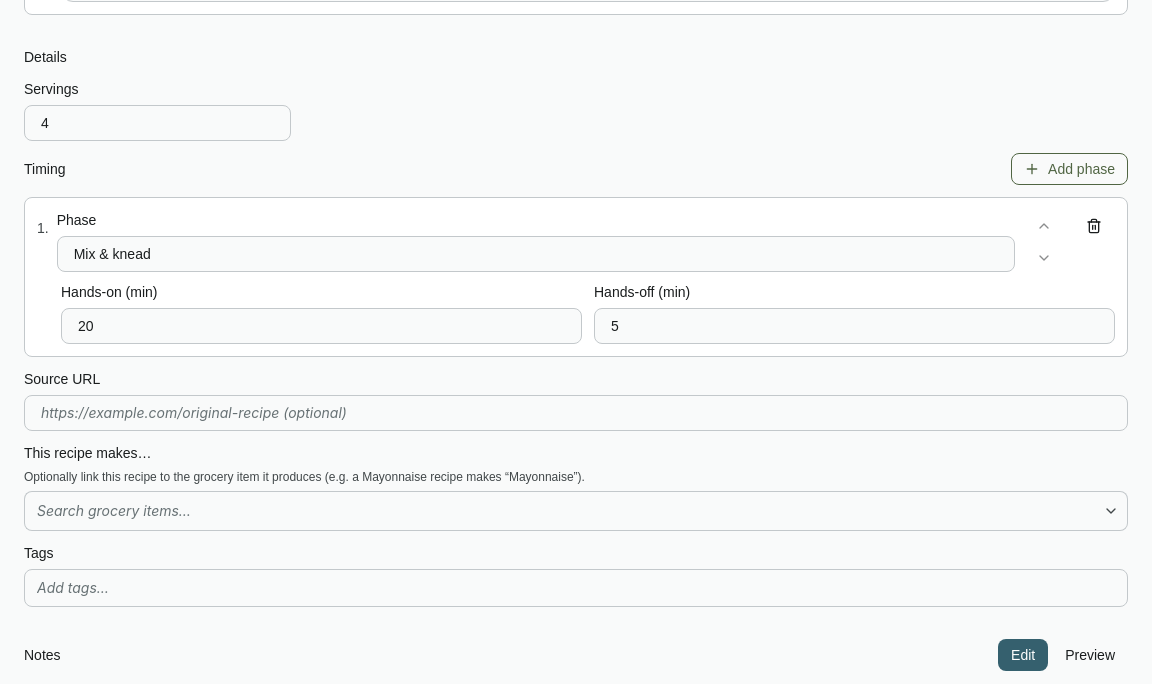
Scenario: RecipeEditPage — the phase hands-off box › snaps back to the stored figure on blur
The image size is (1152, 684).
(page scrolled)
Clear the field with test id "recipe-phase-hands-off-input" at (854, 326), box [611,316,1098,336]
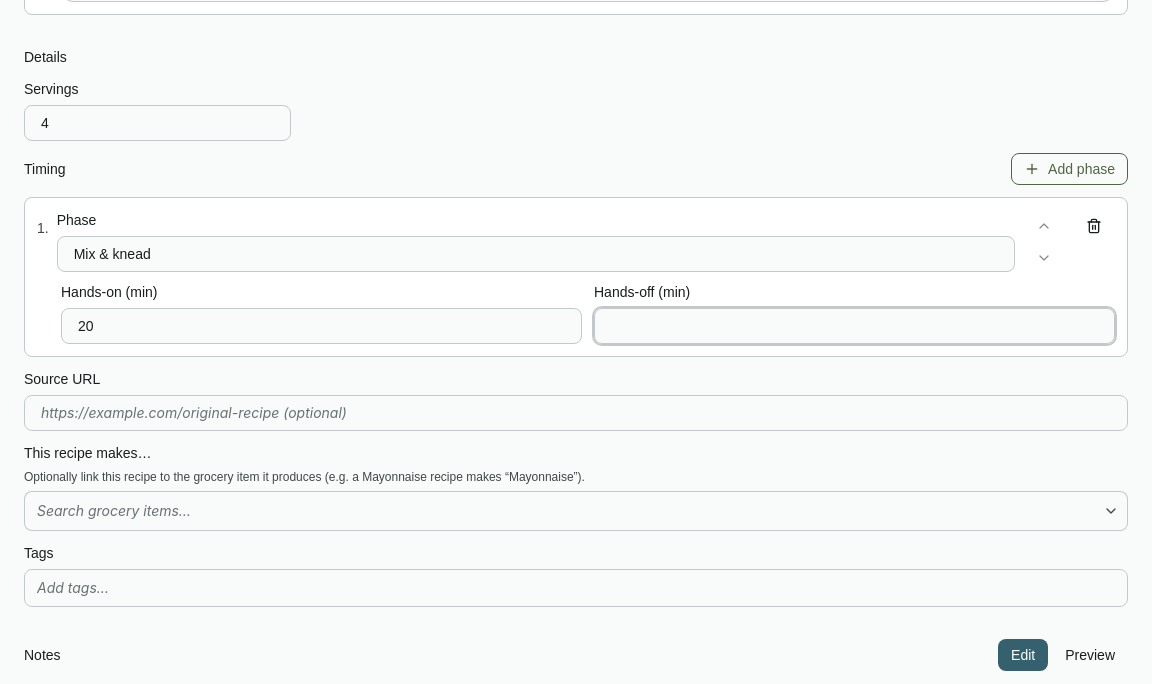
Press Tab
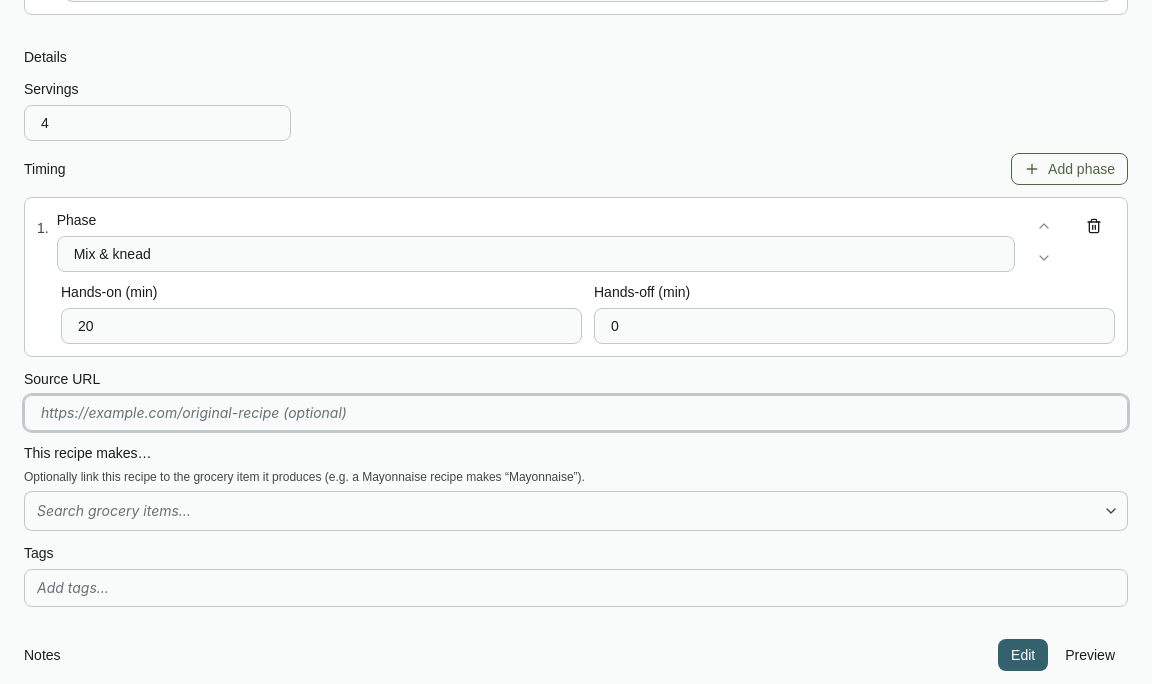
Check: the field with test id "recipe-phase-hands-off-input" holds "0", box [611,316,1098,336]
